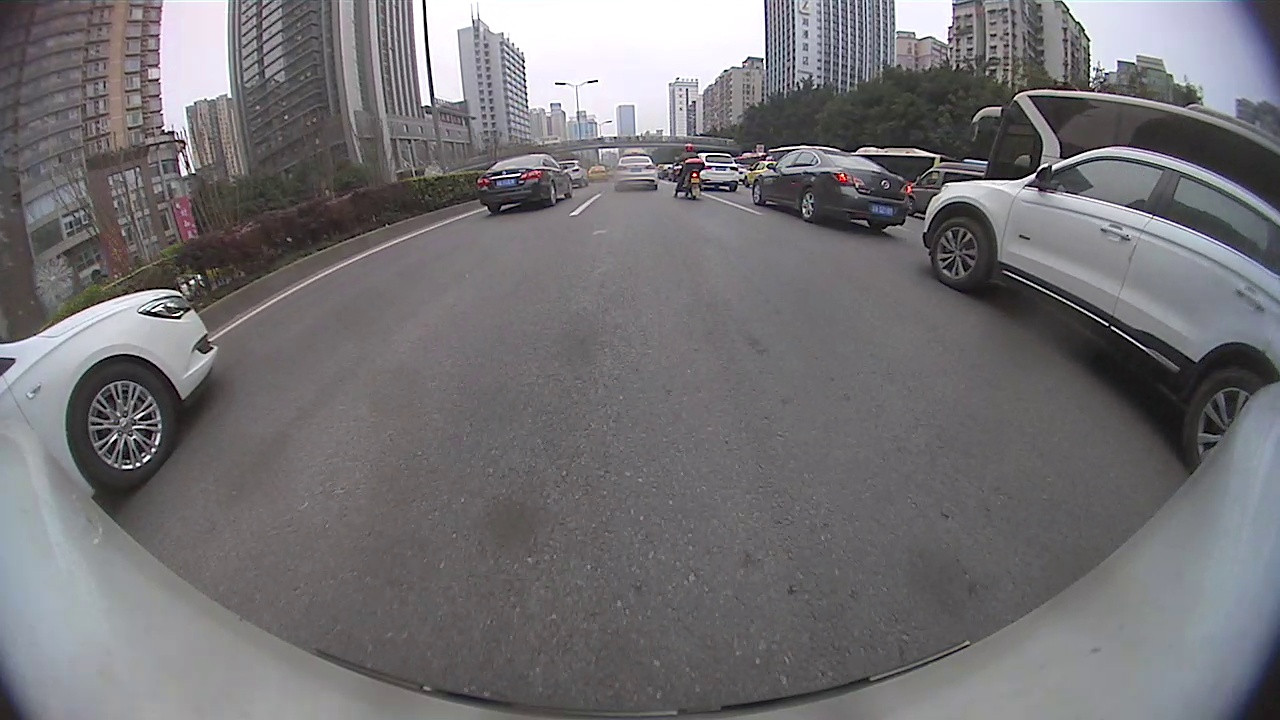bus: (967, 85, 1277, 211), (849, 149, 940, 184)
car: (920, 142, 1278, 468), (0, 287, 220, 501), (751, 145, 913, 232), (477, 151, 575, 215), (905, 159, 990, 218), (698, 151, 743, 194), (614, 155, 659, 190)
front: (66, 360, 180, 494), (929, 219, 991, 289), (750, 182, 762, 205)
rear: (1184, 369, 1269, 473), (801, 189, 817, 222), (547, 177, 557, 205)
rider: (674, 141, 704, 198)
